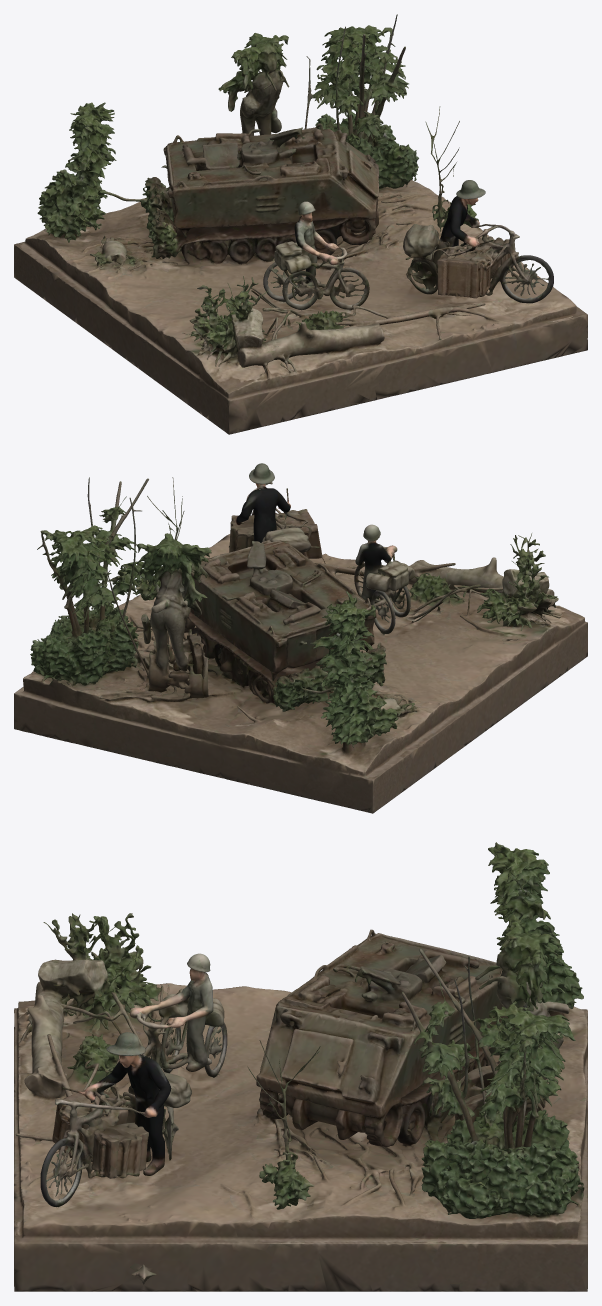
Rendered from danh_bai_hai_mua_kho.glb.
3 renders of one model, top to bottom at view 1: azimuth 30°, elevation 25°; view 2: azimuth 150°, elevation 25°; view 3: azimuth 270°, elevation 25°, orthographic. The views are drawn at different scales.
Size of the model in its own units: 1.9 by 1.08 by 1.9.
Materials: 1 (1 with a texture image).
